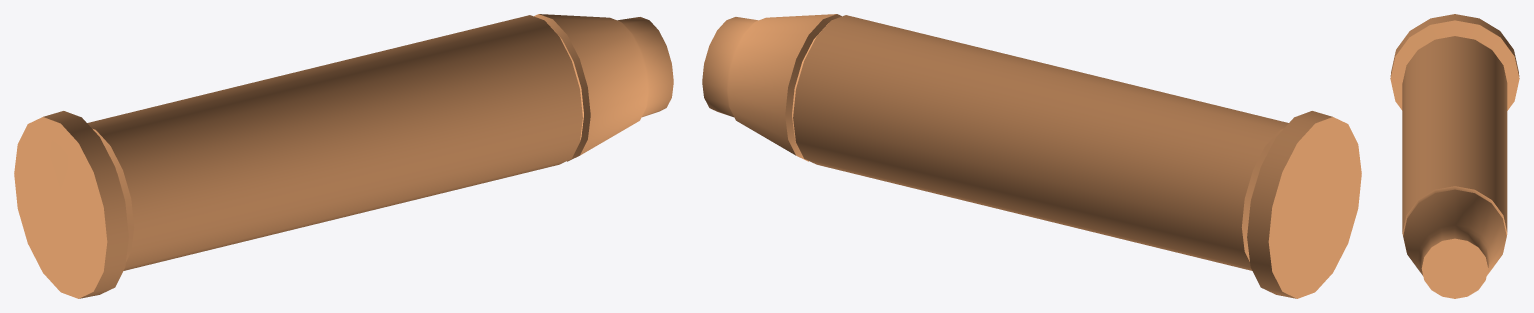
Rendered from VATH_bullet.fbx.
The picture shows the model from 3 angles, left to right: view 1: azimuth 30°, elevation 25°; view 2: azimuth 150°, elevation 25°; view 3: azimuth 270°, elevation 25°; orthographic projection. The views are drawn at different scales.
Parts seen in each view (by area): view 1: polySurface5_025_012.019; view 2: polySurface5_025_012.019; view 3: polySurface5_025_012.019.
Boxes of the visible parts, box(x1,y1,x2,y2) form: polySurface5_025_012.019: box(14, 14, 673, 298); polySurface5_025_012.019: box(702, 14, 1361, 298); polySurface5_025_012.019: box(1390, 14, 1519, 298).
Bounding box in the file's own units: 224 × 61.97 × 61.97.
